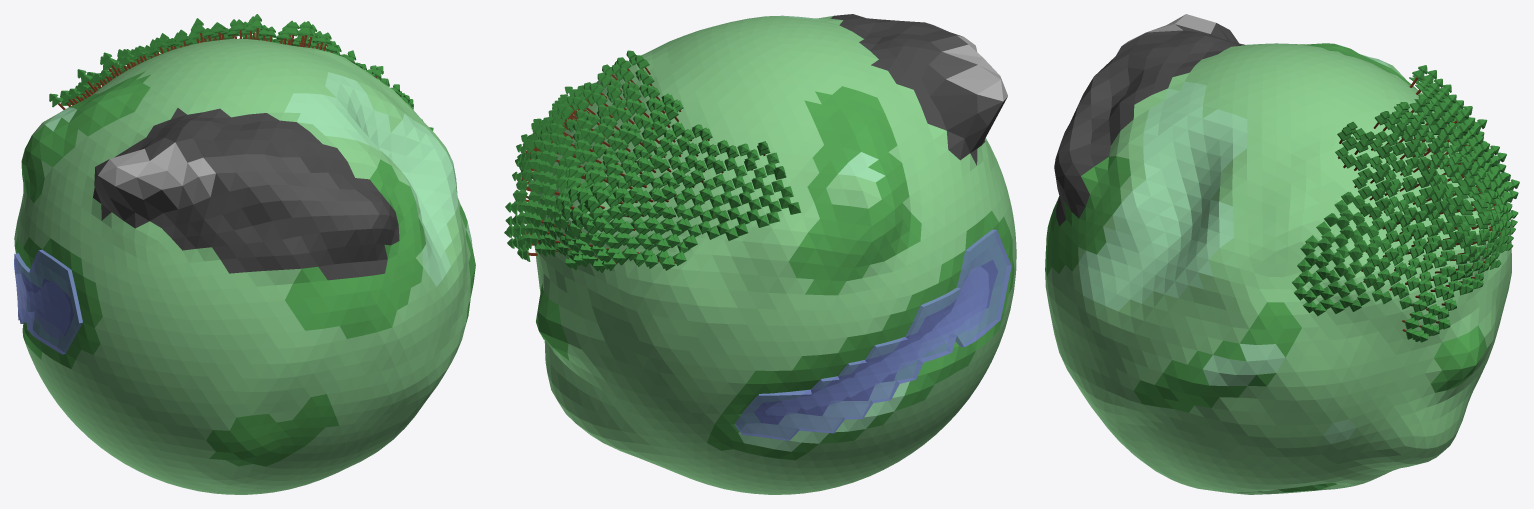
File: PlanetTest.fbx
The picture shows the model from 3 angles, left to right: view 1: azimuth 30°, elevation 25°; view 2: azimuth 150°, elevation 25°; view 3: azimuth 270°, elevation 25°; orthographic projection. The views are drawn at different scales.
Visible parts, largest first — view 1: Icosphere, Water; view 2: Icosphere, Water; view 3: Icosphere.
Boxes of the visible parts, x1=… form: Icosphere: x1=14, y1=14, x2=475, y2=494; Water: x1=14, y1=249, x2=82, y2=354; Icosphere: x1=504, y1=14, x2=1016, y2=494; Water: x1=734, y1=229, x2=1011, y2=440; Icosphere: x1=1045, y1=14, x2=1519, y2=494.
Size of the model in its own units: 207 by 200 by 207.
